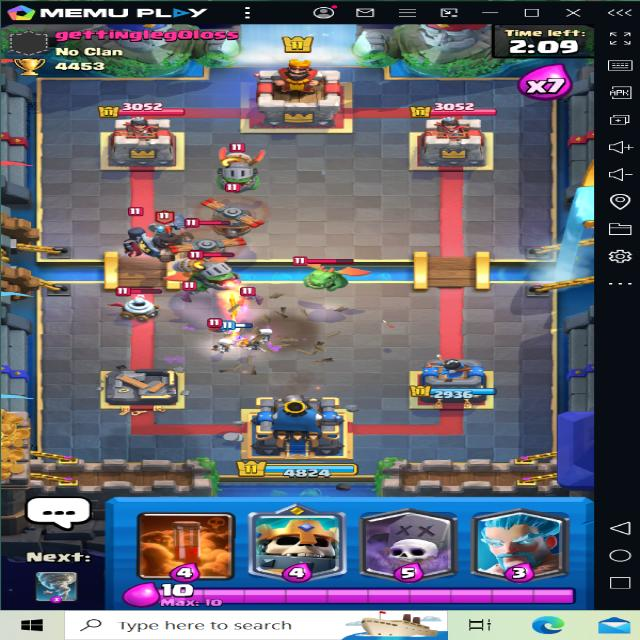baby-dragon: (280, 252, 369, 296)
bats: (201, 309, 232, 336), (234, 285, 273, 303), (183, 276, 212, 297)
dark-prince: (144, 210, 197, 263)
flying-machine: (201, 184, 270, 238), (182, 218, 241, 267)
inferno-dragon: (211, 139, 276, 193), (178, 248, 246, 289)
night-witch: (119, 202, 158, 256)
zappie: (102, 280, 163, 318)
